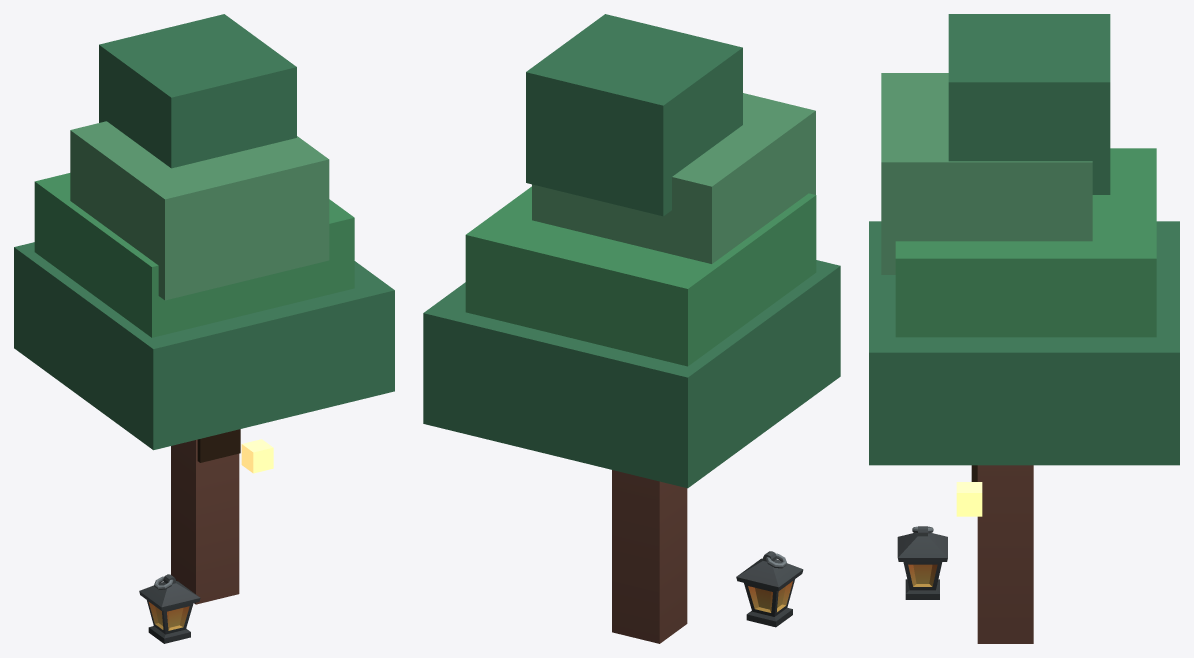
File: owl-hollow-oak.glb
3 views of the same model, side by side, from view 1: azimuth 30°, elevation 25°; view 2: azimuth 150°, elevation 25°; view 3: azimuth 270°, elevation 25° (orthographic). The views are drawn at different scales.
Parts seen in each view (by area): view 1: owl-hollow-oak_body, owl-hollow-oak_glow; view 2: owl-hollow-oak_body; view 3: owl-hollow-oak_body, owl-hollow-oak_glow.
Boxes of the visible parts, left/top/right/bottom form: owl-hollow-oak_body: left=14, top=14, right=394, bottom=643; owl-hollow-oak_glow: left=241, top=439, right=273, bottom=473; owl-hollow-oak_body: left=423, top=14, right=840, bottom=643; owl-hollow-oak_body: left=869, top=14, right=1179, bottom=643; owl-hollow-oak_glow: left=956, top=482, right=982, bottom=516.
Bounding box in the file's own units: 6 × 12.48 × 6.
